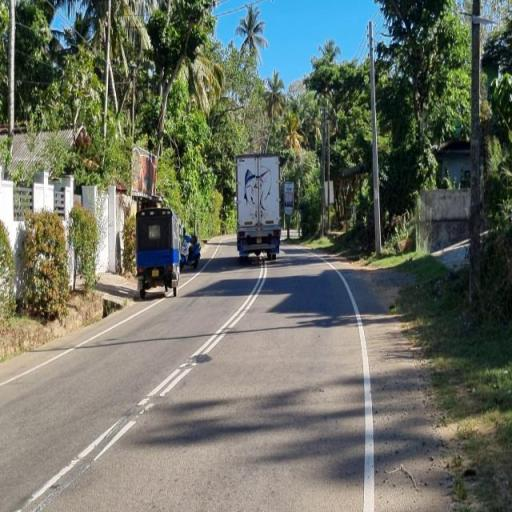double_white_line: (140, 262, 268, 415)
